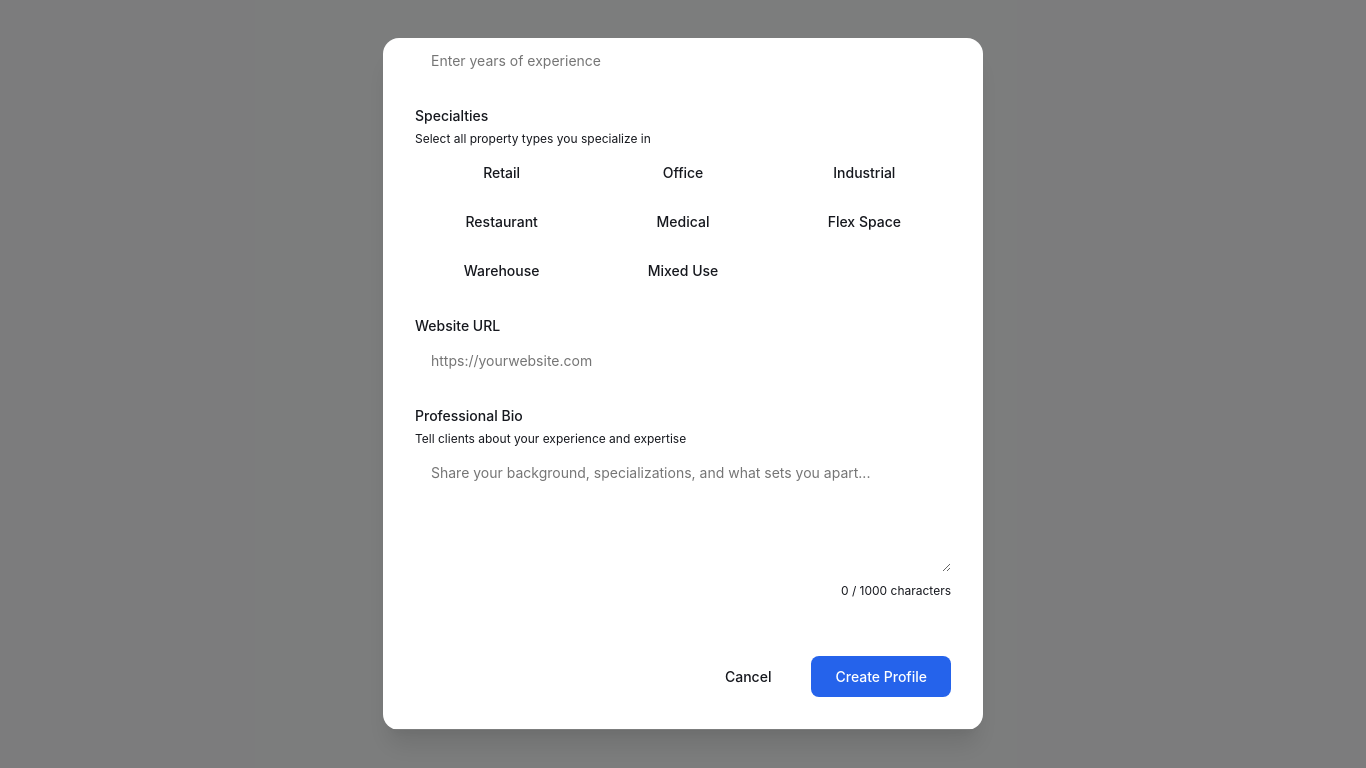
Test: BrokerProfileModal › Character Counter › updates character count as user types
The image size is (1366, 768).
(page scrolled)
Step 1. Replace the text in the text box labelled "Professional Bio" with "Test bio" → x=683, y=512, box [415, 452, 951, 572]
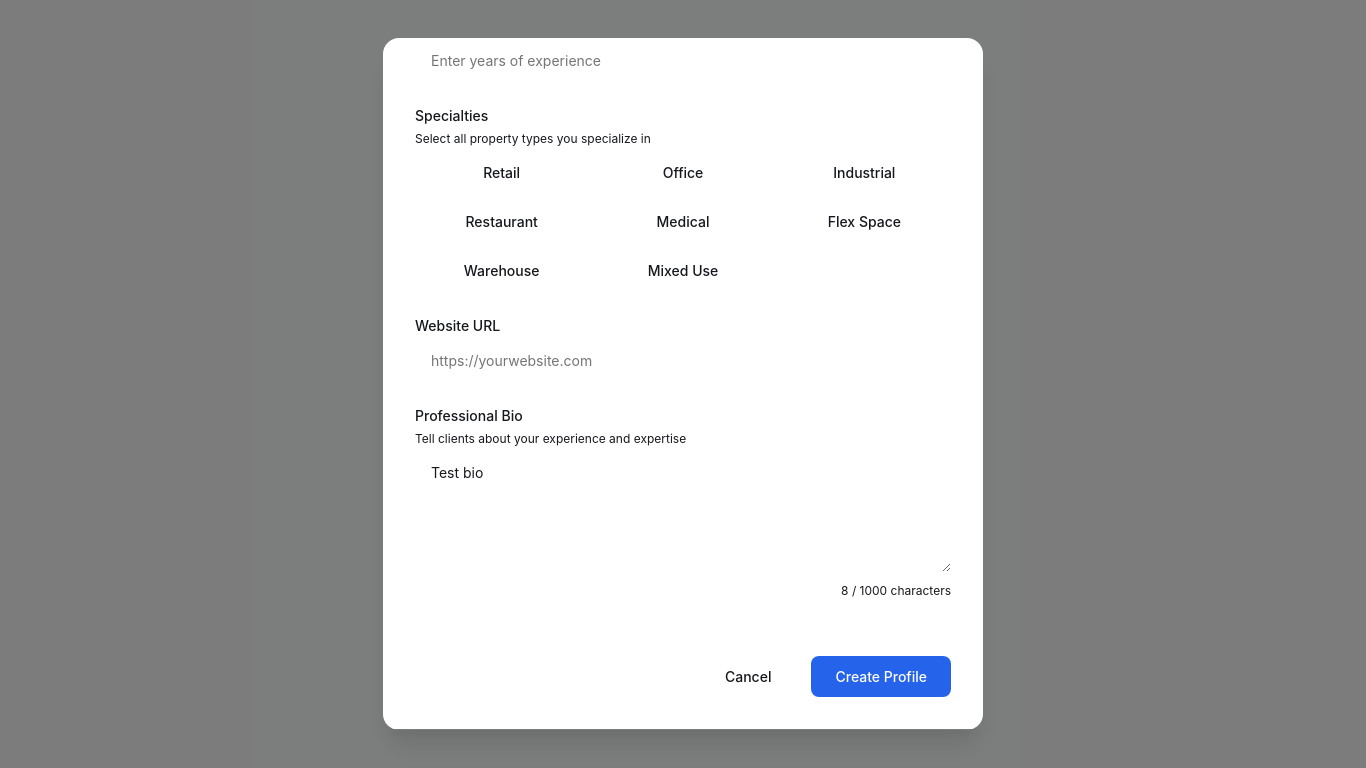
Expected: the text "8 / 1000 characters" is shown, [841, 583, 951, 598]
